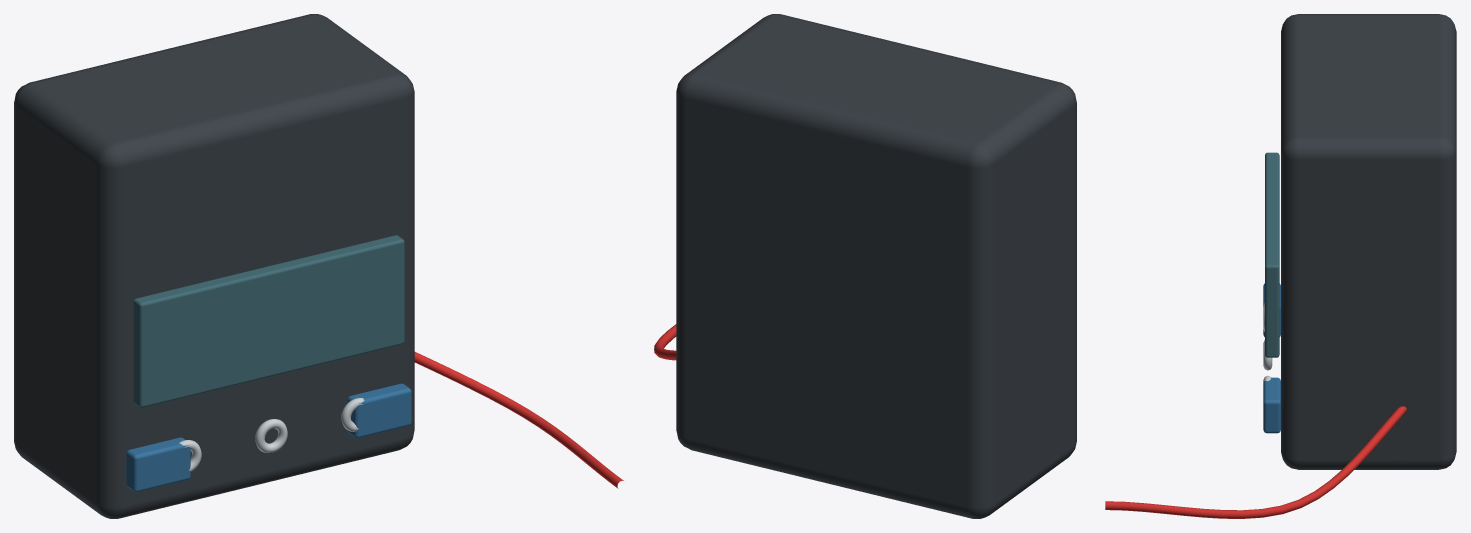
Rendered from fencing-club-and-tournament-piste-weapon-test-box-6a6a6a97__31218.glb.
The picture shows the model from 3 angles, left to right: view 1: azimuth 30°, elevation 25°; view 2: azimuth 150°, elevation 25°; view 3: azimuth 270°, elevation 25°; orthographic projection. The views are drawn at different scales.
Visible parts, largest first — view 1: weapon-test-box; view 2: weapon-test-box; view 3: weapon-test-box.
Boxes of the visible parts, x1,y1,x2,y2 form: weapon-test-box: (14, 14, 623, 518); weapon-test-box: (654, 14, 1076, 518); weapon-test-box: (1105, 14, 1456, 518).
Size of the model in its own units: 0.2996 by 0.25 by 0.24.
